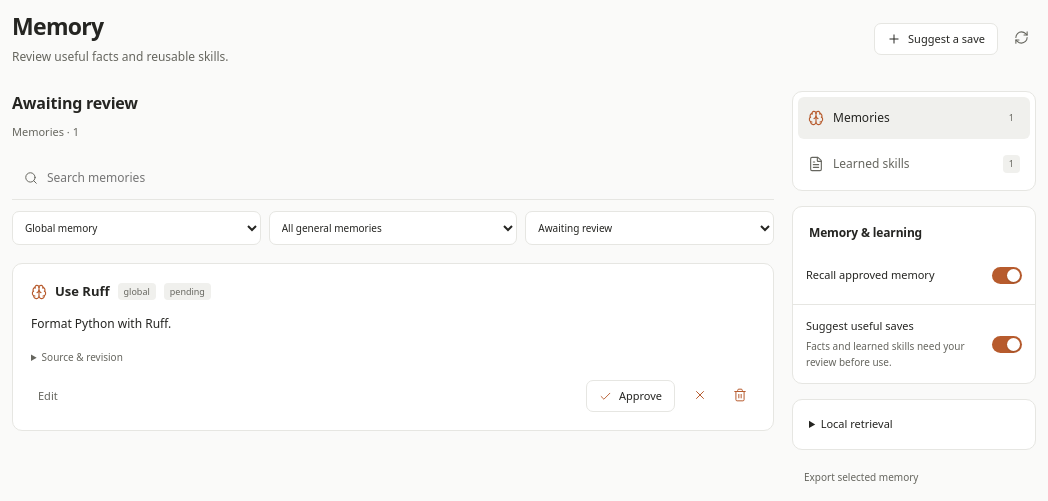
Test: memory review layout › preserves search and filters when switching categories and explains empty searches
Expected: the text "Use Ruff" is shown, [55, 282, 110, 301]
Type "missing fixture" into the field named "Filter memory" at (404, 178), box [47, 169, 762, 187]
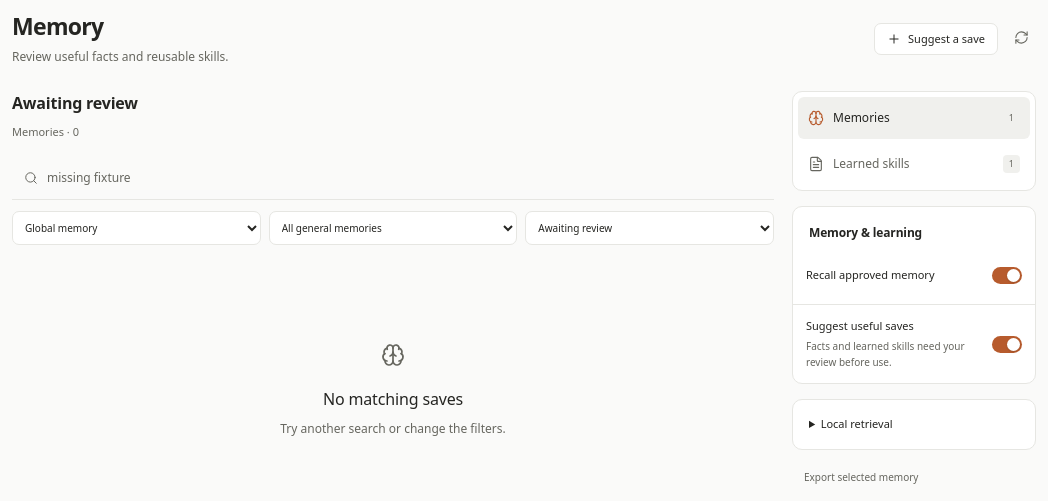
Now the heading "No matching saves" is shown, box [323, 387, 463, 411]
Click the button "Learned skills 1" at (914, 164), box [798, 143, 1030, 185]
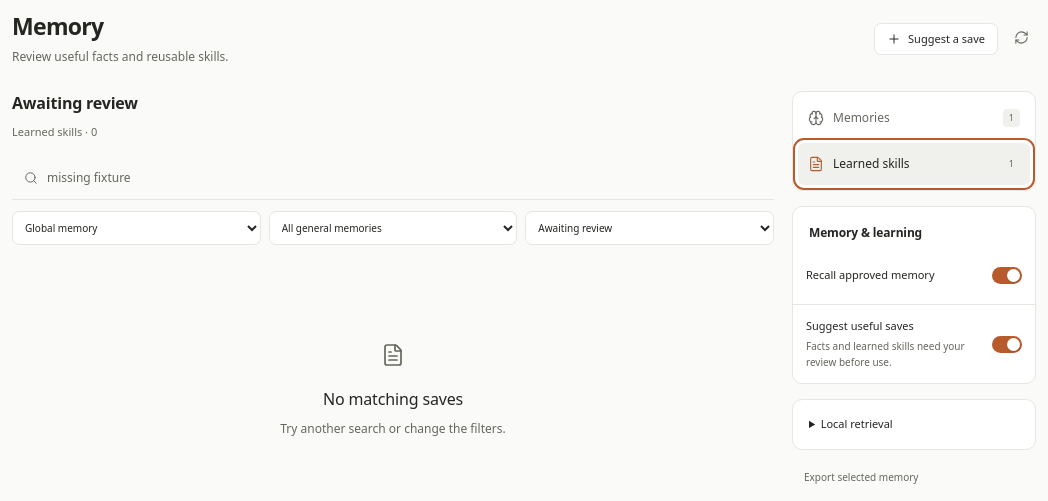
Now the heading "No matching saves" is shown, box [323, 387, 463, 411]
Replace the text in the field named "Filter memory" with "review" at (404, 178), box [47, 169, 762, 187]
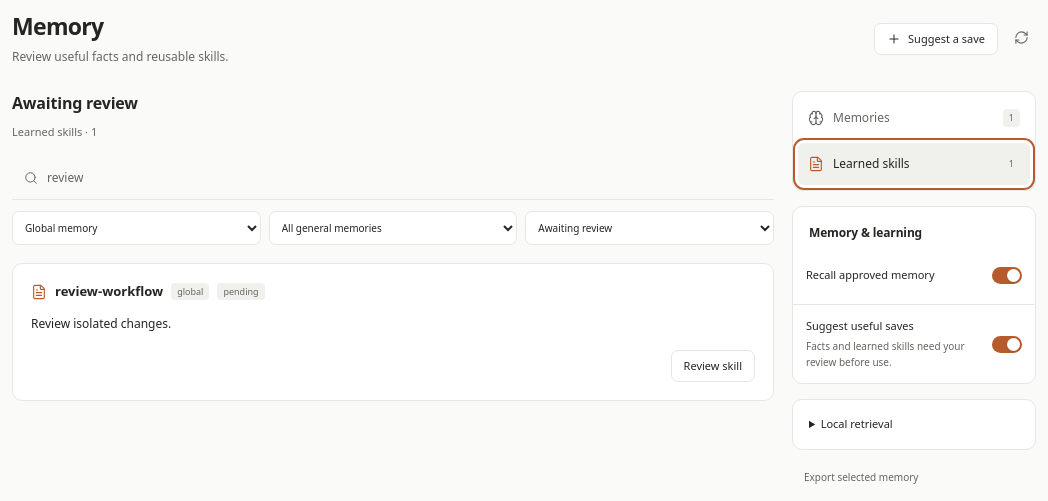
Now the text "review-workflow" is shown, box [55, 282, 163, 301]
Select "Approved" in the dropdown named "Memory status" at (650, 228), box [525, 211, 774, 245]
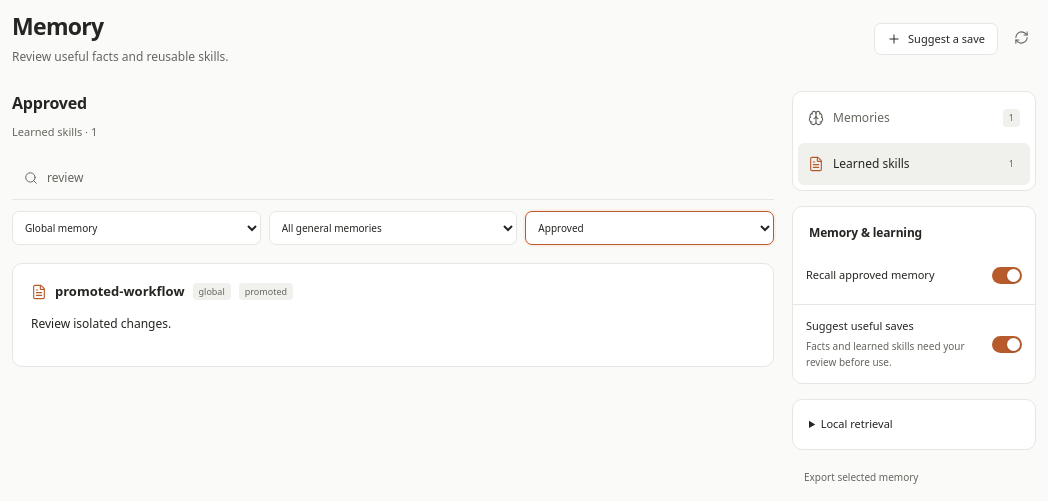
Now the text "promoted-workflow" is shown, box [55, 282, 184, 301]
Now the text "review-workflow" is gone
